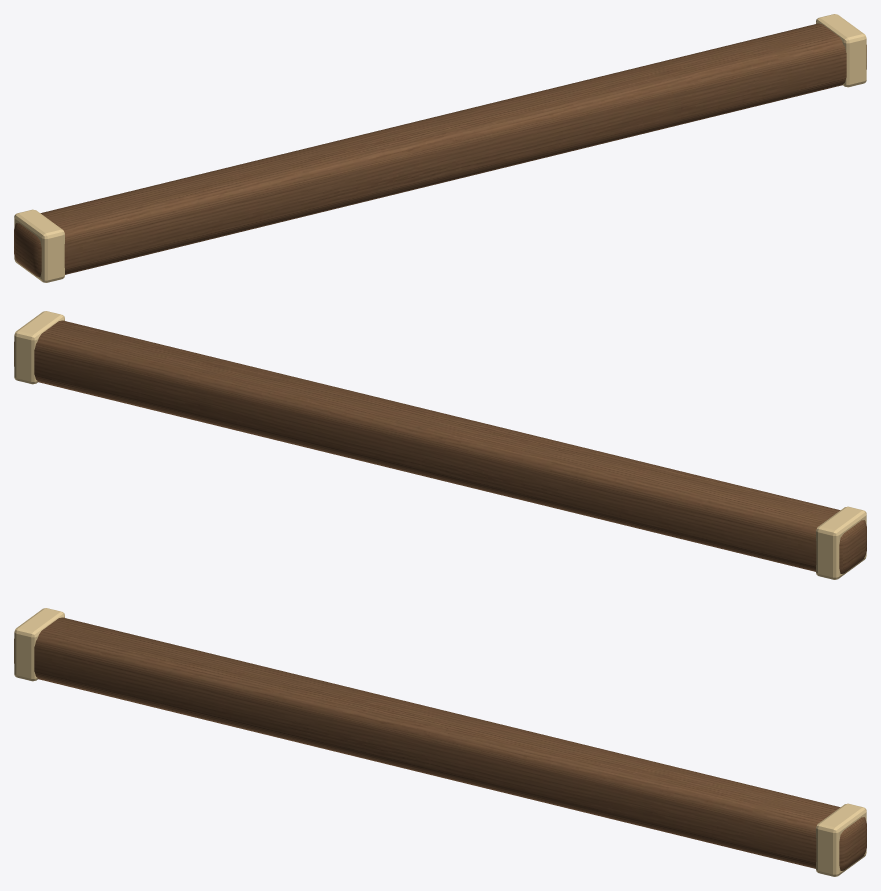
The model's file is paperweight.glb.
3 views of the same model, one above another, from view 1: azimuth 30°, elevation 25°; view 2: azimuth 150°, elevation 25°; view 3: azimuth 330°, elevation 25° (orthographic).
Visible parts, largest first — view 1: paperweight, cap, cap.001; view 2: paperweight, cap, cap.001; view 3: paperweight, cap.001, cap.
Boxes of the visible parts, x1,y1,x2,y2 form: paperweight: (14, 23, 866, 276); cap: (14, 209, 64, 282); cap.001: (816, 14, 866, 87); paperweight: (14, 320, 866, 573); cap: (816, 506, 866, 579); cap.001: (14, 311, 64, 384); paperweight: (14, 617, 866, 870); cap.001: (816, 803, 866, 876); cap: (14, 608, 64, 681).
Size of the model in its own units: 0.22 by 0.0125 by 0.0145.
2 materials, 1 textured.
